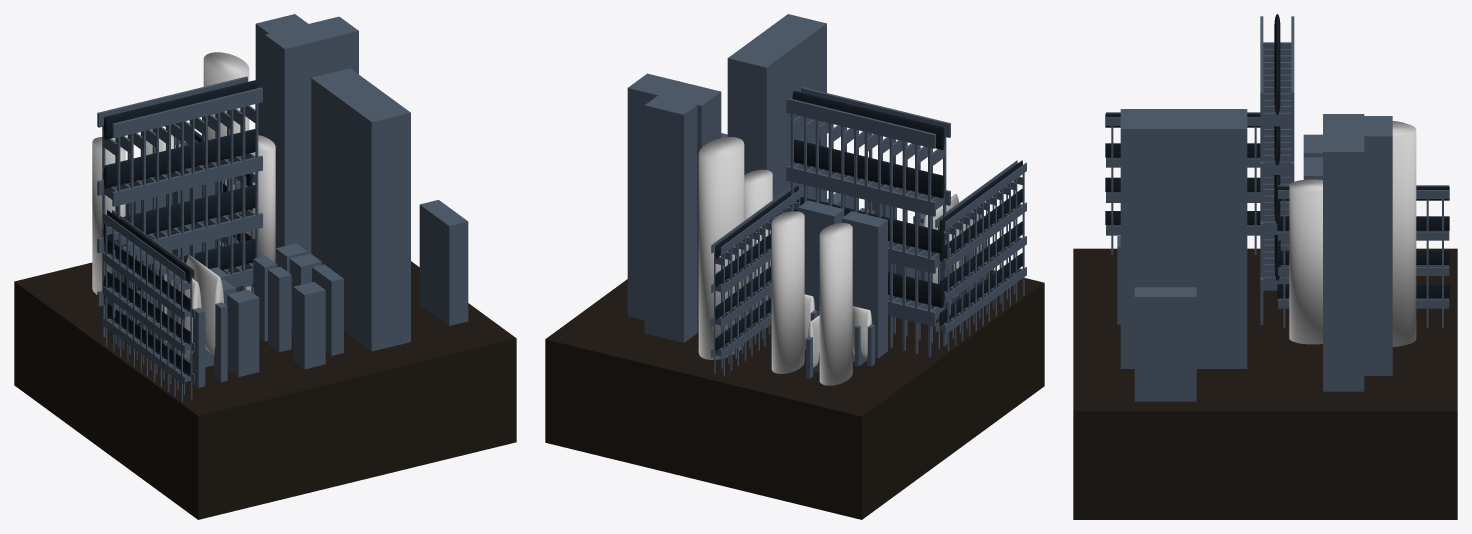
File: Effluent Treatment_cube.fbx
3 renders of one model, left to right at view 1: azimuth 30°, elevation 25°; view 2: azimuth 150°, elevation 25°; view 3: azimuth 270°, elevation 25°, orthographic. The views are drawn at different scales.
Visible parts, largest first — view 1: EffluentTreatment_cube; view 2: EffluentTreatment_cube; view 3: EffluentTreatment_cube.
Boxes of the visible parts, x1,y1,x2,y2 form: EffluentTreatment_cube: (14,14,516,519); EffluentTreatment_cube: (545,14,1044,519); EffluentTreatment_cube: (1073,14,1457,519).
Bounding box in the file's own units: 100 × 100 × 100.
